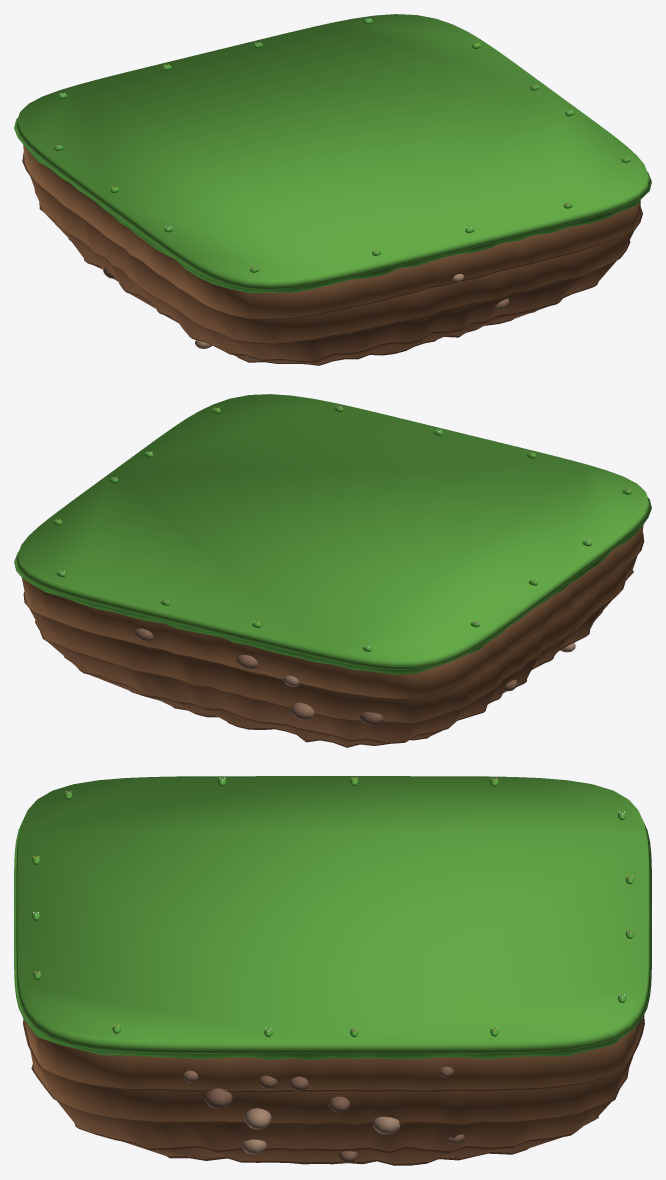
The model's file is island.glb.
3 views of the same model, one above another, from view 1: azimuth 30°, elevation 25°; view 2: azimuth 150°, elevation 25°; view 3: azimuth 270°, elevation 25° (orthographic). The views are drawn at different scales.
Visible parts, largest first — view 1: top; view 2: top; view 3: top.
Part boxes in pixels (x1,y1,x2,y2): top: (14,14,651,365); top: (14,394,651,747); top: (14,776,651,1165).
Bounding box in the file's own units: 9.57 × 3.67 × 9.56.
